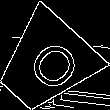O_SW: (12, 31, 79, 97)
